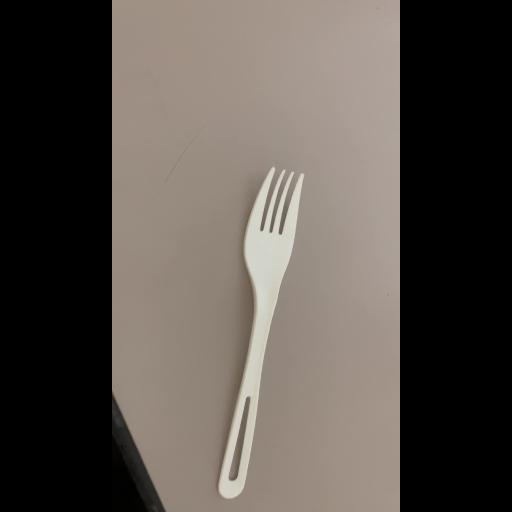utensil: (217, 169, 303, 497)
